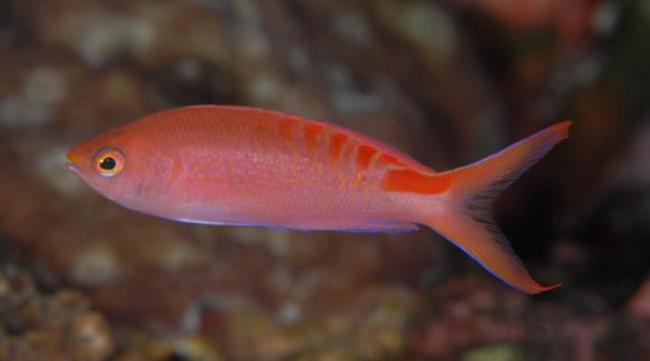fish: (66, 104, 573, 294)
